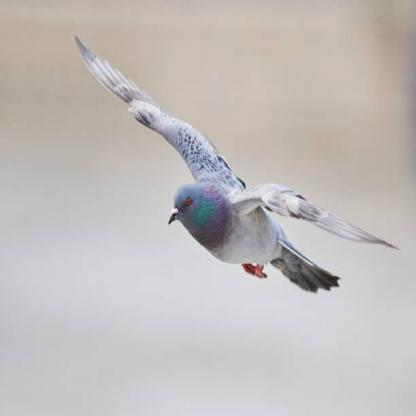Rock Pigeon: (74, 41, 405, 299)
